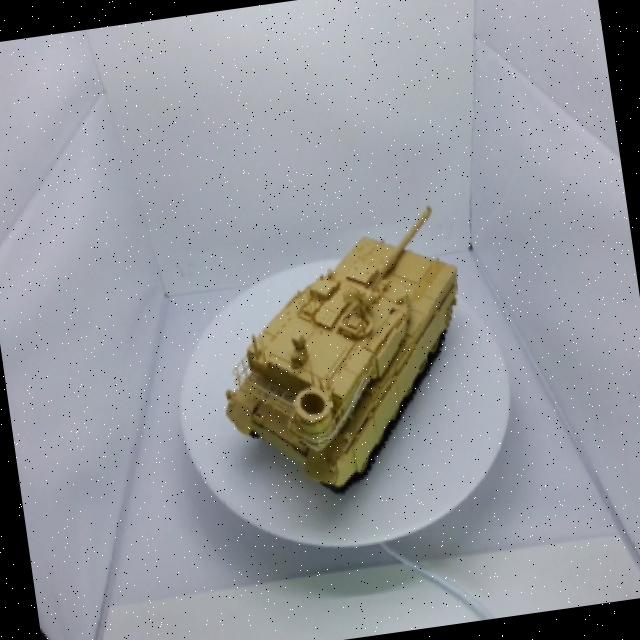korea tank: (184, 176, 521, 520)
